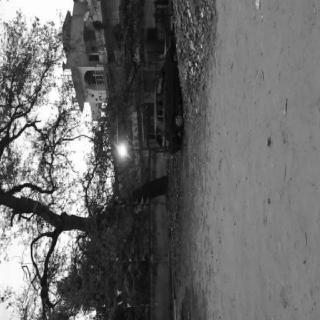other: (113, 134, 133, 168)
